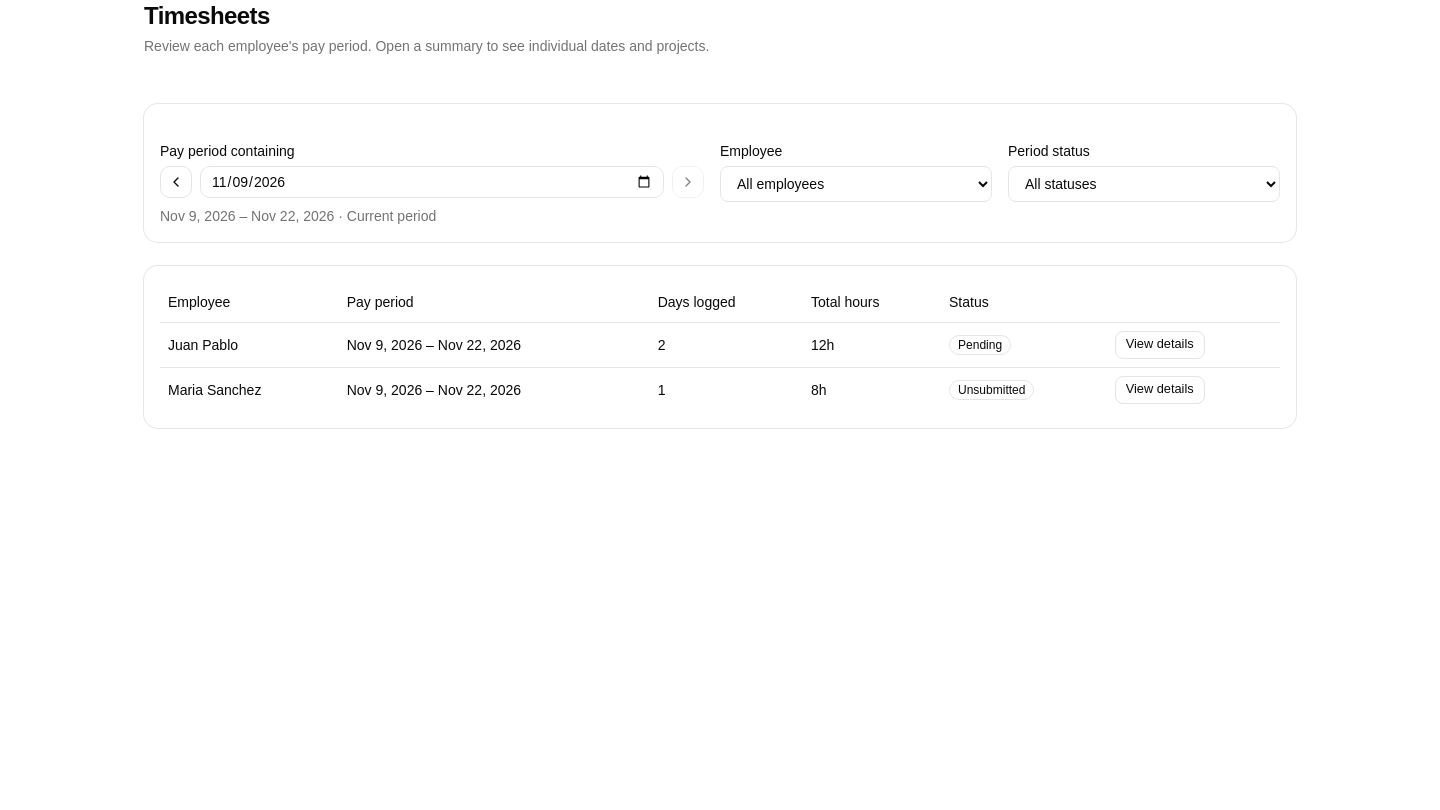
Test: review failures preserve the confirmation and enable retry
This screenshot has width=1440, height=810.
Click the button with aria-label "View Juan Pablo's timesheet details". click: (1160, 344)
box: [1115, 330, 1205, 358]
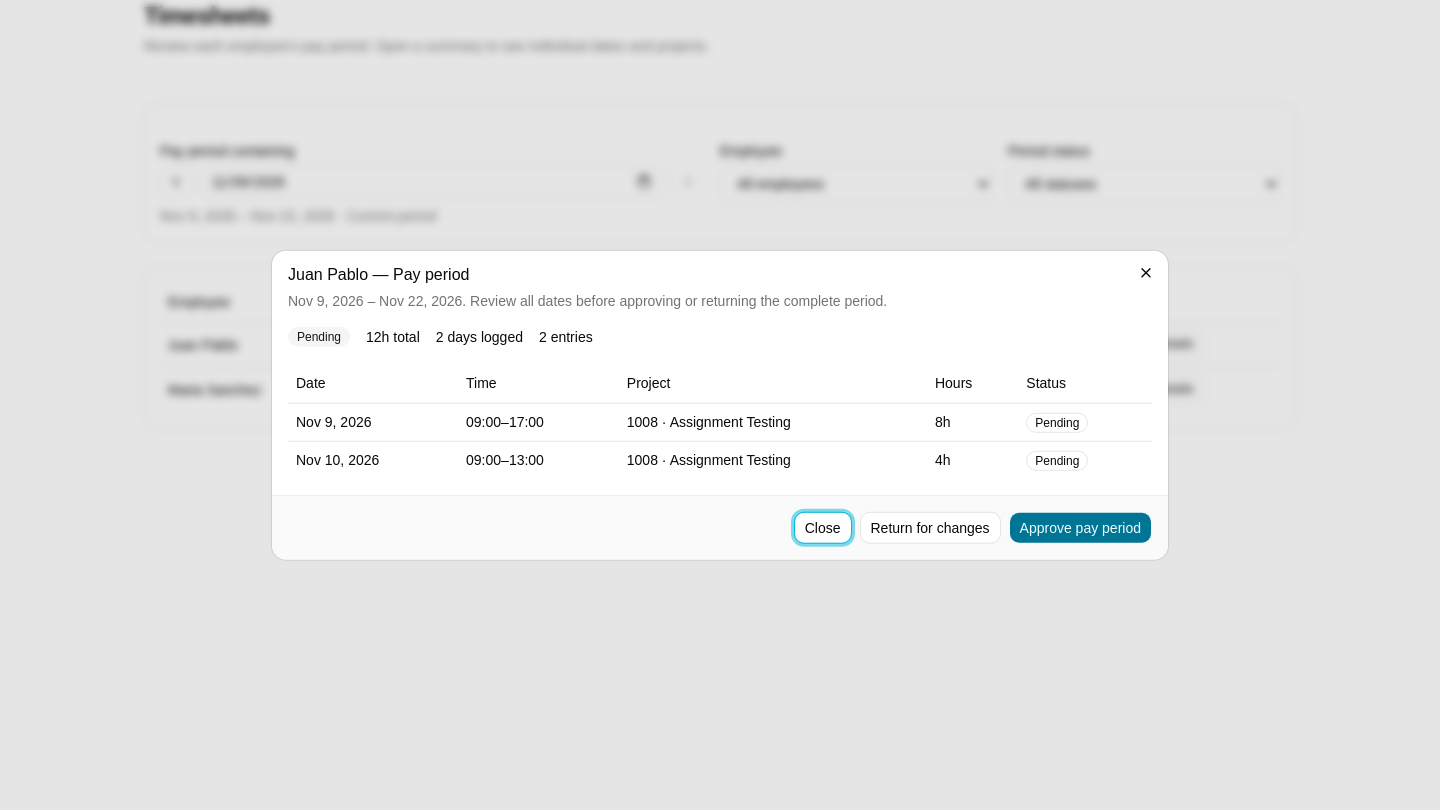
Click the button "Approve pay period". click: (1080, 527)
box: [1009, 511, 1152, 543]
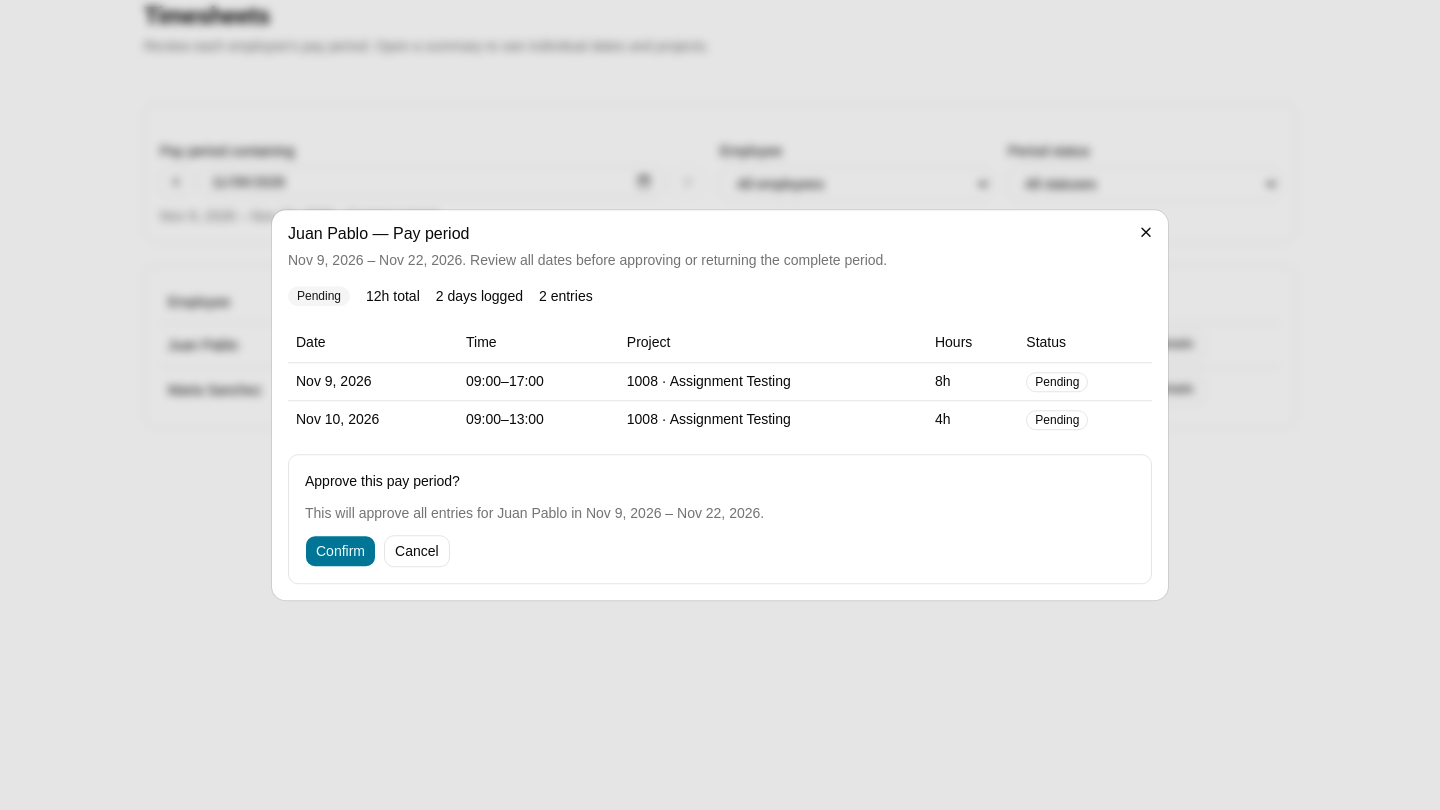
Click the button "Confirm". click: (340, 551)
box: [305, 535, 376, 567]
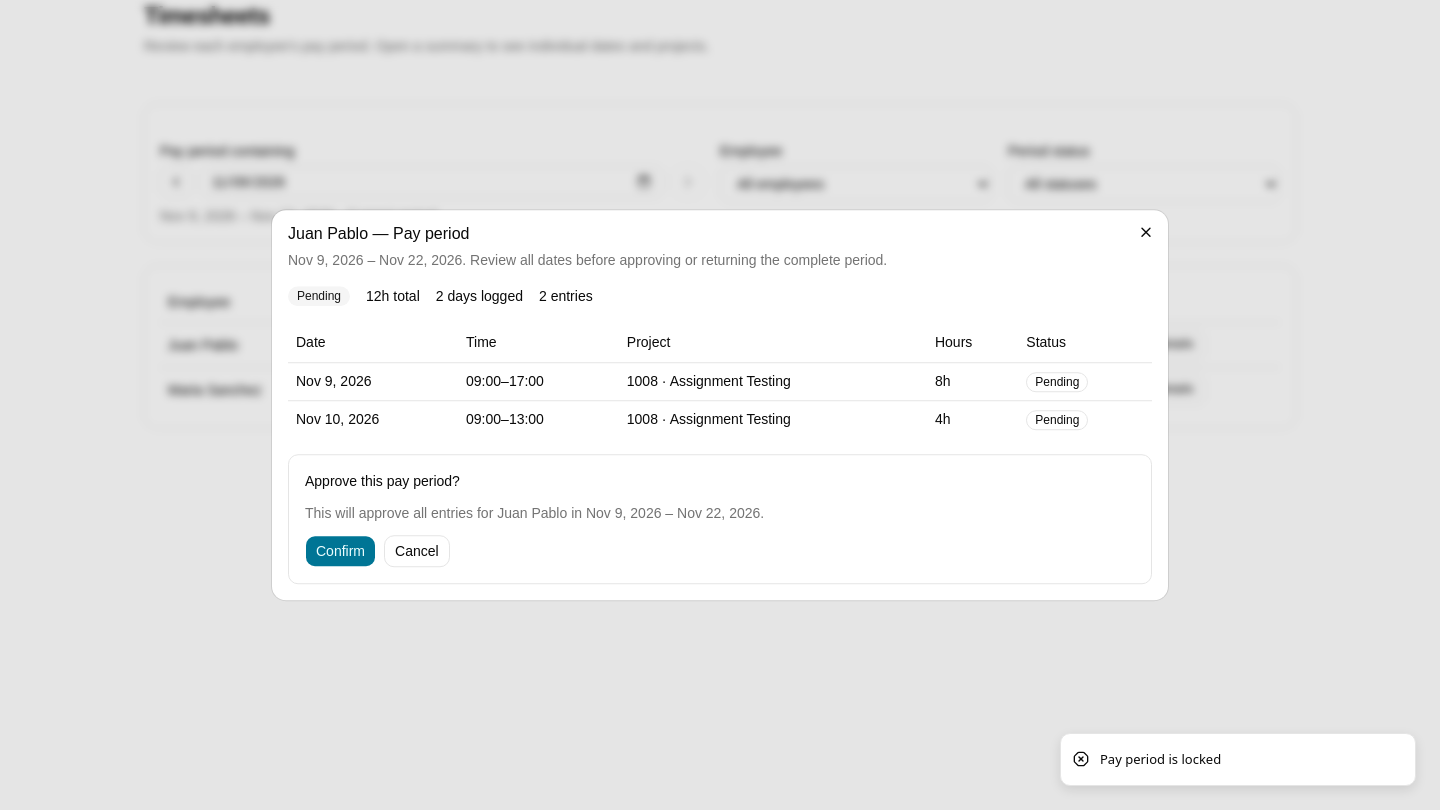
Now the button "Confirm" is enabled, box [305, 535, 376, 567]
Now the text "Approve this pay period?" is shown, box [305, 473, 460, 489]
Now the text "Pay period is locked" is shown, box [1100, 750, 1221, 769]
